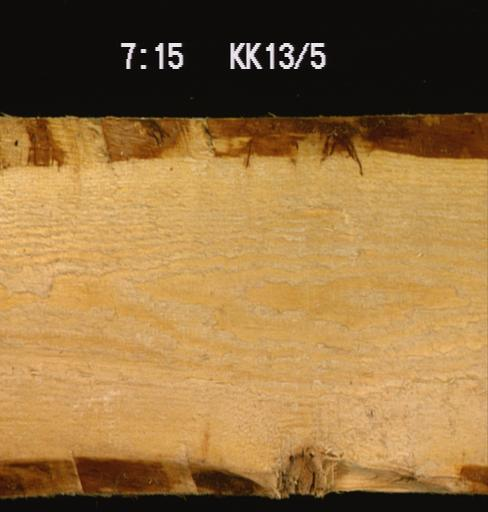wave: (0, 115, 487, 169), (0, 440, 487, 493)
